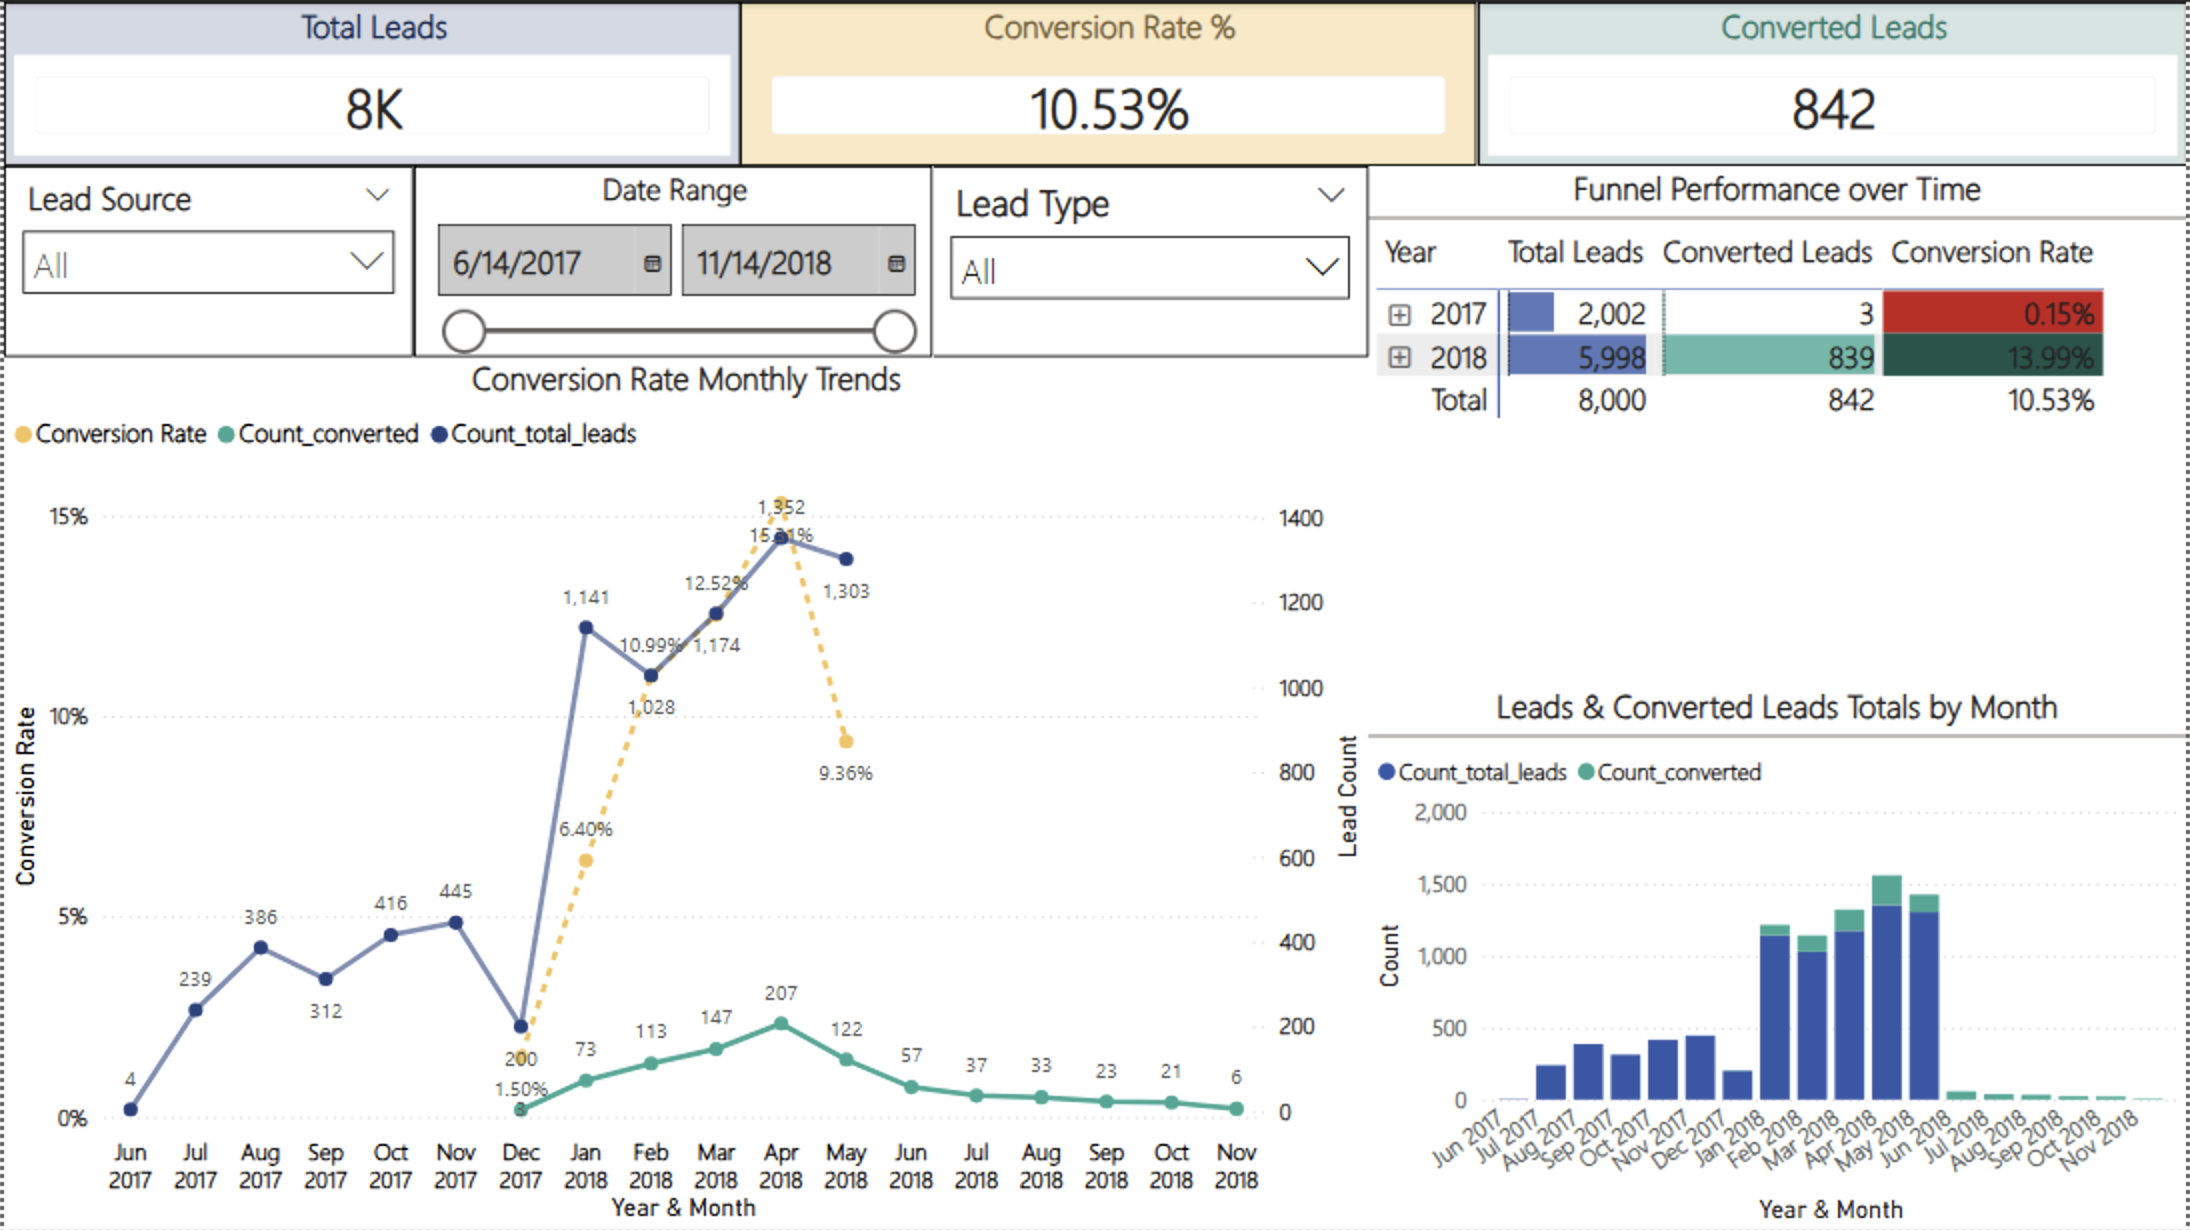

Layout of this report page (visuals, bound fields, positions):
{"tool":"powerbi","page":{"name":"Time Trends","canvas":[1280,720],"ordinal":1},"visuals":[{"type":"lineStackedColumnComboChart","title":"Leads & Converted Leads Totals by Month","fields":{"Category":["Date_Table.Year-Month Text"],"Y":["Measures_table.Count_total_leads","Measures_table.Count_converted"]},"box":[800,400,480,320],"z":0},{"type":"lineChart","title":"Conversion Rate Monthly Trends","fields":{"Category":["Date_Table.Year-Month Text"],"Y":["Measures_table.Conversion_Rate"],"Y2":["Measures_table.Count_converted","Measures_table.Count_total_leads"]},"box":[0,208,800,512],"z":1000},{"type":"slicer","fields":{"Values":["Total_Leads.origin"]},"box":[0,96,240,112],"z":4000},{"type":"slicer","fields":{"Values":["Converted_Leads.lead_type"]},"box":[544,96,256,112],"z":5000},{"type":"pivotTable","title":"Funnel Performance over Time","fields":{"Values":["Measures_table.Count_total_leads","Measures_table.Count_converted","Measures_table.Conversion_Rate"],"Rows":["Date_Table.Year","Date_Table.Month Name"]},"box":[800,96,480,304],"z":6000},{"type":"cardVisual","title":"Total Leads","fields":{"Data":["Measures_table.Count_total_leads"]},"box":[0,0,432,96],"z":7000},{"type":"cardVisual","title":"Conversion Rate %","fields":{"Data":["Measures_table.Conversion Rate"]},"box":[432,0,432,96],"z":8000},{"type":"cardVisual","title":"Converted Leads","fields":{"Data":["Measures_table.Count_converted"]},"box":[864,0,416,96],"z":9000},{"type":"slicer","title":"Date Range","fields":{"Values":["Date_Table.Date"]},"box":[240,96,304,112],"z":10000}]}

Visuals, with their boxes in screenshot pixels (x1, y1, x2, y2), scaled from the page's 1280x720 canvas onto the 2190x1230 screenshot:
"Leads & Converted Leads Totals by Month" lineStackedColumnComboChart: region(1369, 683, 2189, 1229)
"Conversion Rate Monthly Trends" lineChart: region(0, 355, 1369, 1229)
slicer - Total_Leads.origin: region(0, 164, 411, 355)
slicer - Converted_Leads.lead_type: region(931, 164, 1369, 355)
"Funnel Performance over Time" pivotTable: region(1369, 164, 2189, 683)
"Total Leads" cardVisual: region(0, 0, 739, 164)
"Conversion Rate %" cardVisual: region(739, 0, 1478, 164)
"Converted Leads" cardVisual: region(1478, 0, 2189, 164)
"Date Range" slicer: region(411, 164, 931, 355)
